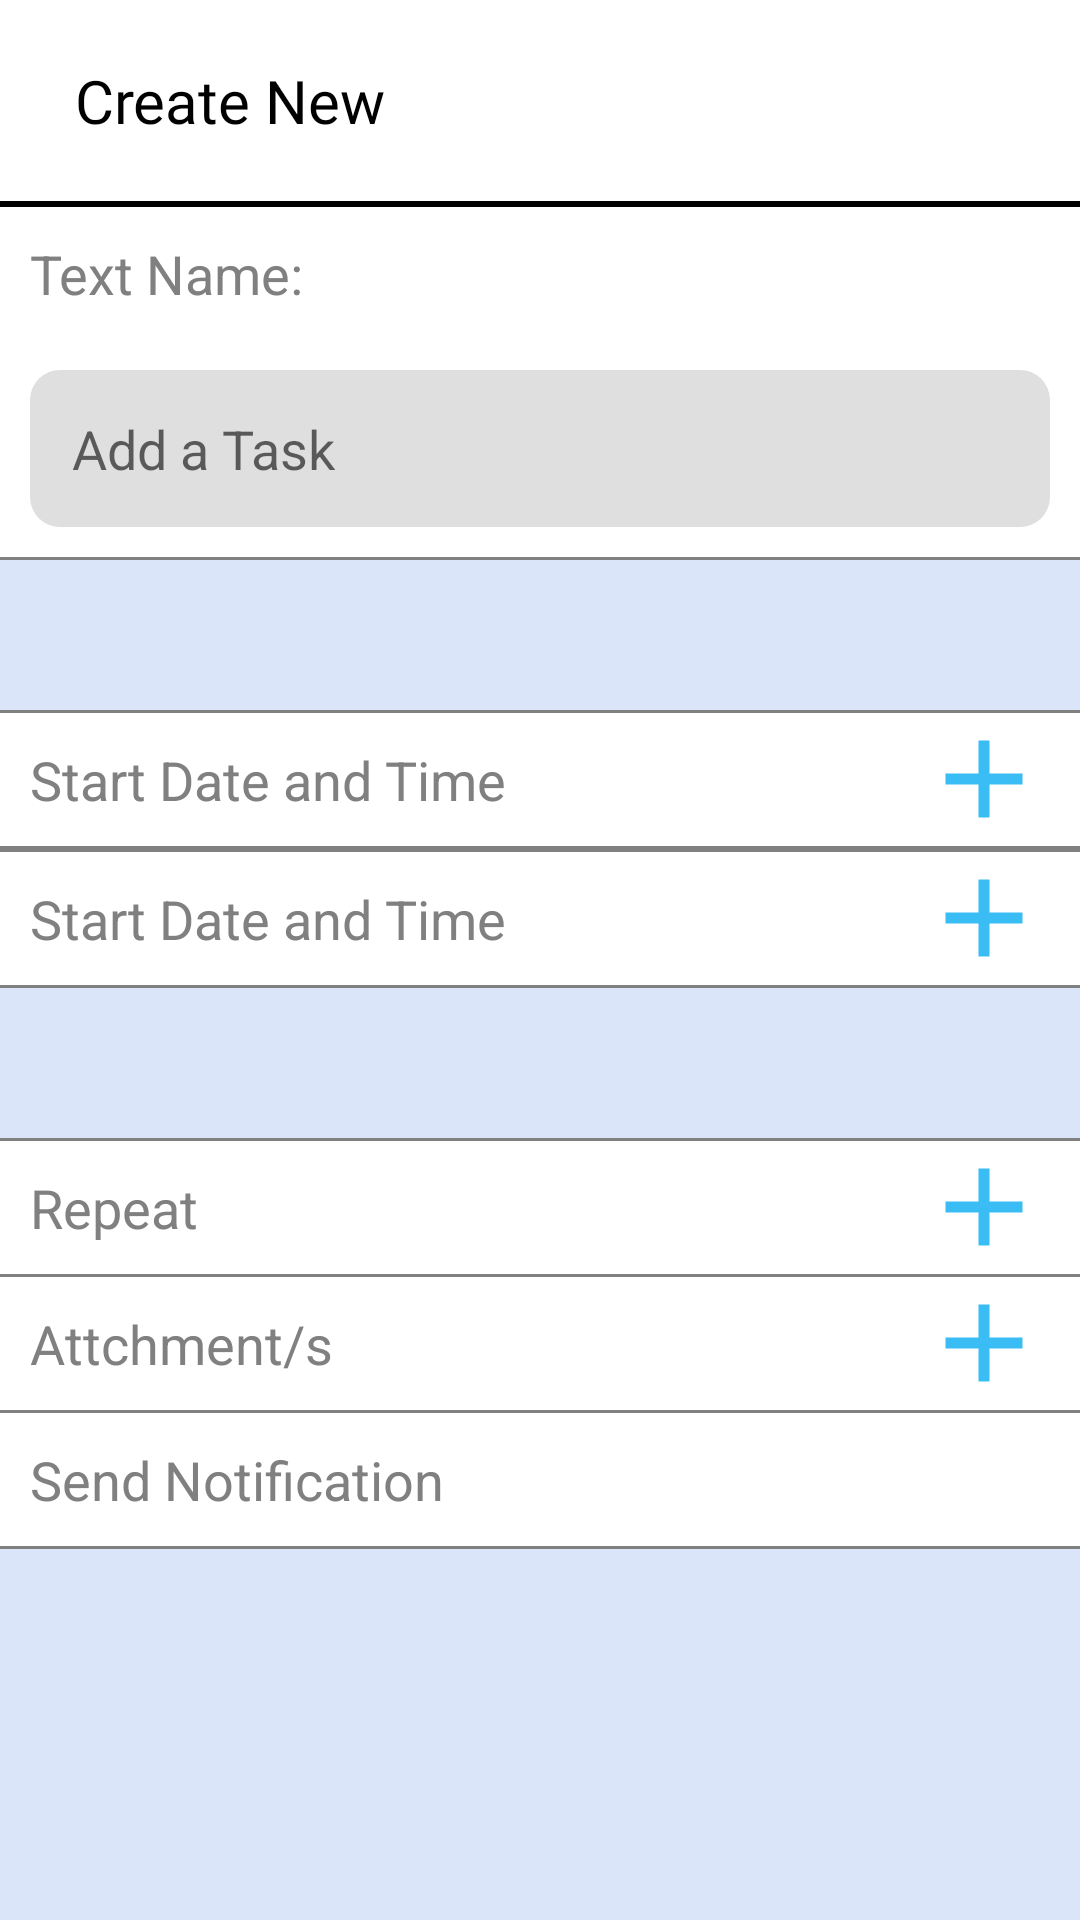

Point at icon controls on the screen. Image size 1080w x 1920h, points as (x,y).
add: (984,779), (984,918), (984,1207), (984,1343)
